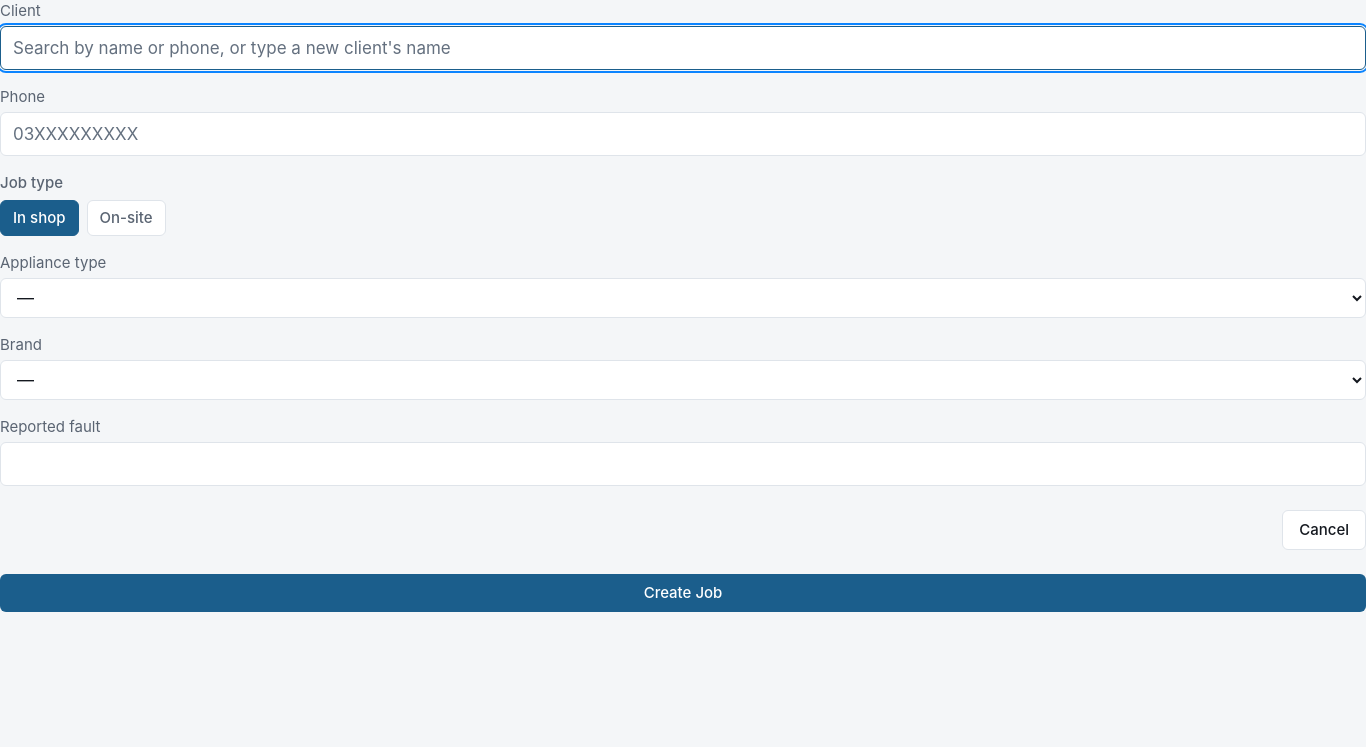
it: JobCreateForm (P15-4 — job type + on-site address group) › clicking "On-site" reveals the Address/Area/Landmark group
This screenshot has width=1366, height=747.
What coordinates should you click on to do the following:
click the button "On-site"
I would click on:
 (126, 218)
Its box is [86, 200, 166, 236].
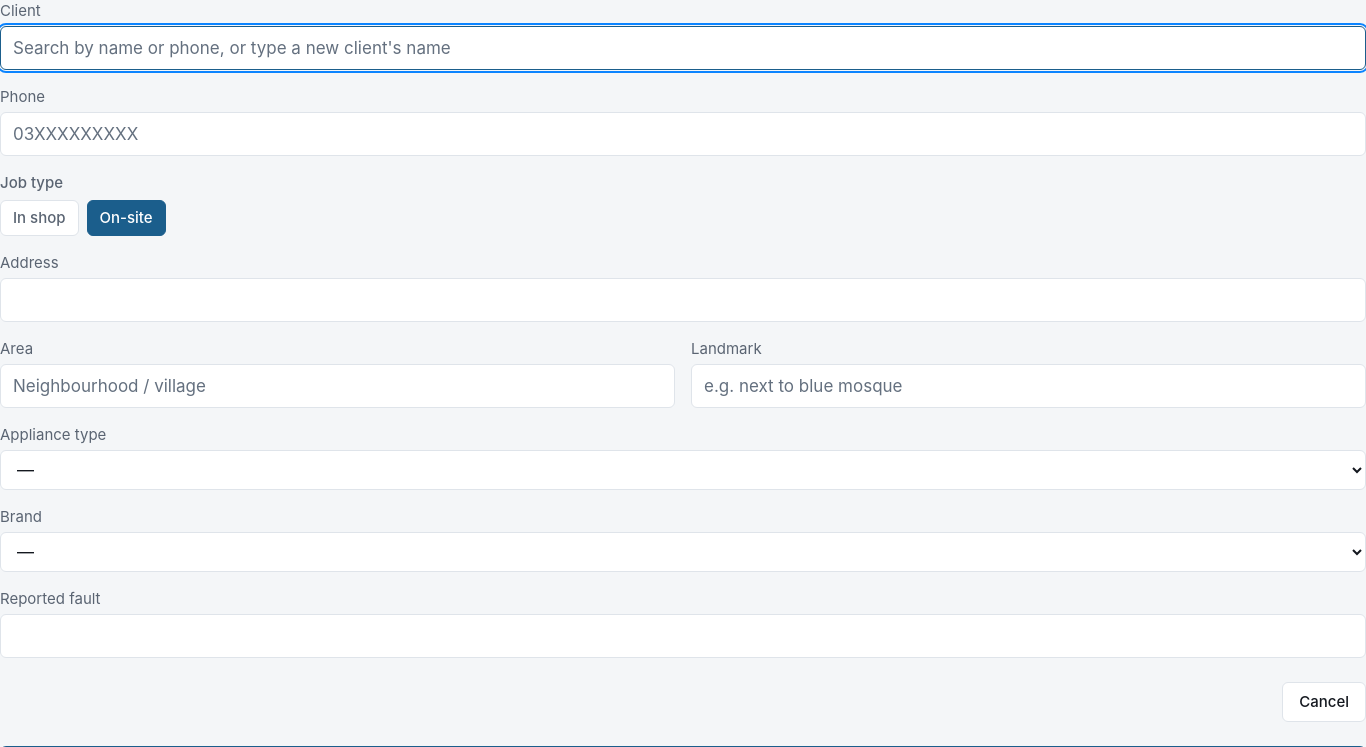
Result: the field labelled "Address" is shown at [0, 278, 1365, 322]
Result: the field labelled "Area" is shown at [0, 364, 675, 408]
Result: the field labelled "Landmark" is shown at [691, 364, 1365, 408]
